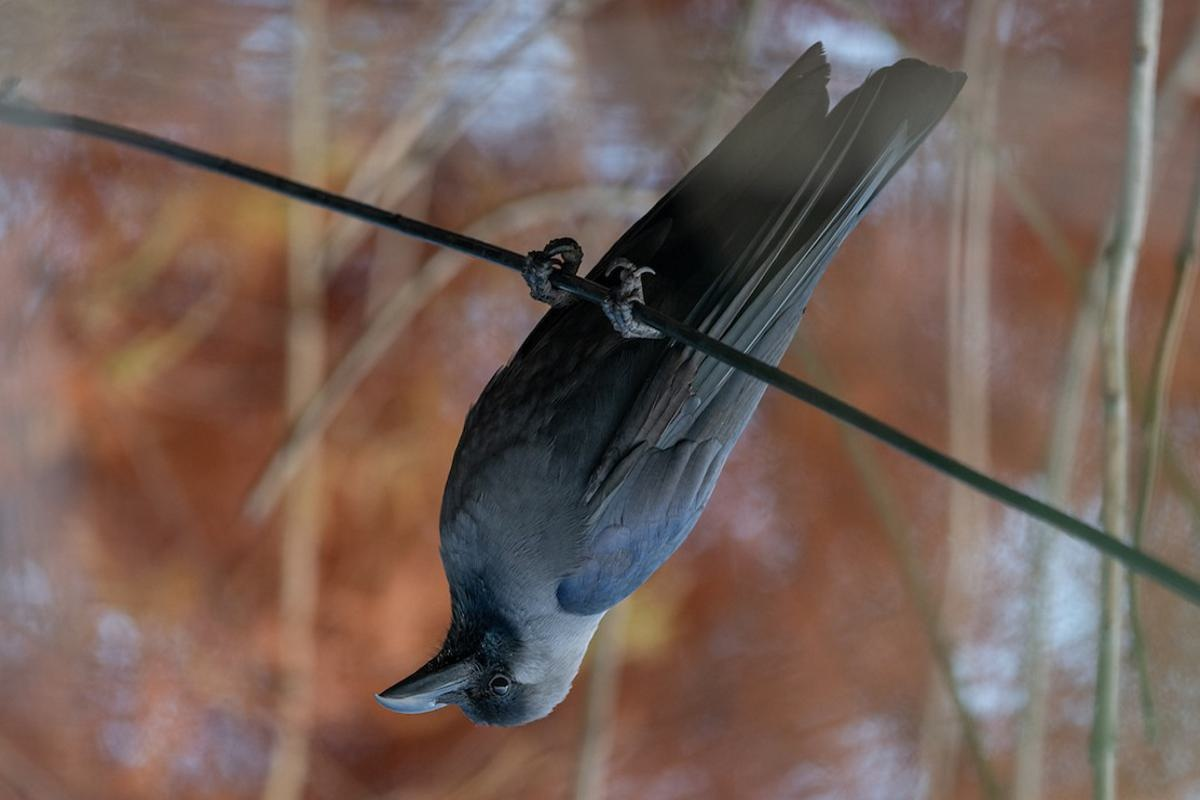crow: (368, 50, 970, 740)
